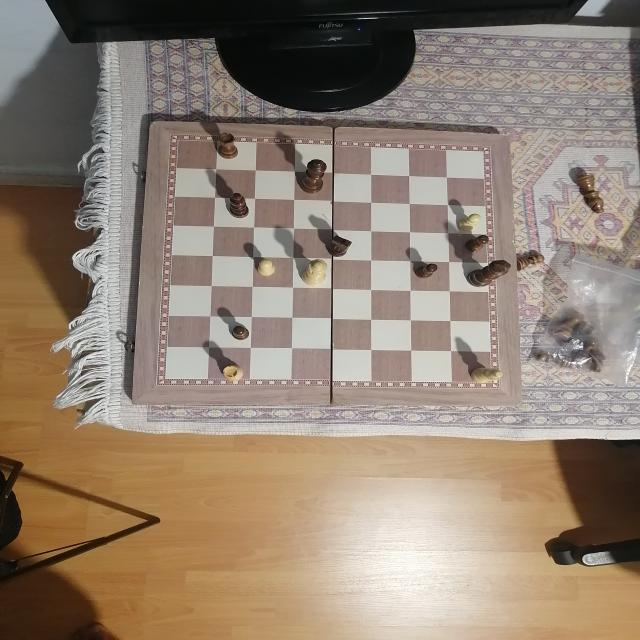corners: (122, 395, 148, 411), (146, 111, 160, 133), (508, 395, 522, 414), (487, 134, 508, 146)
